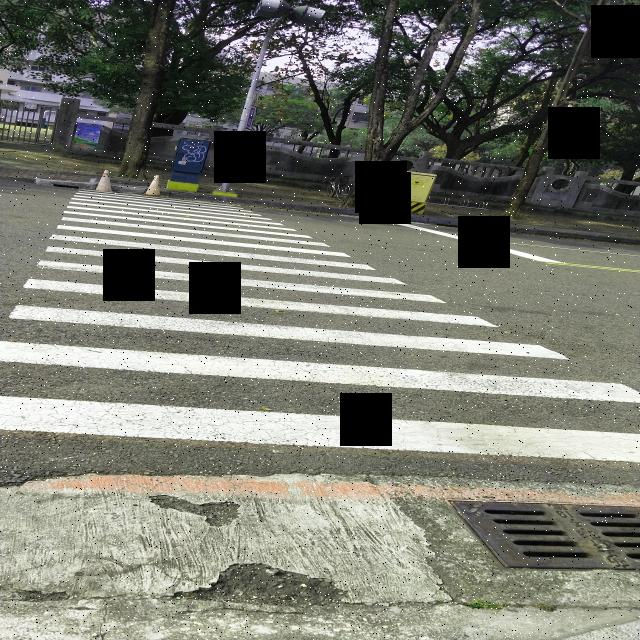zebra_crossing: (0, 189, 640, 466)
